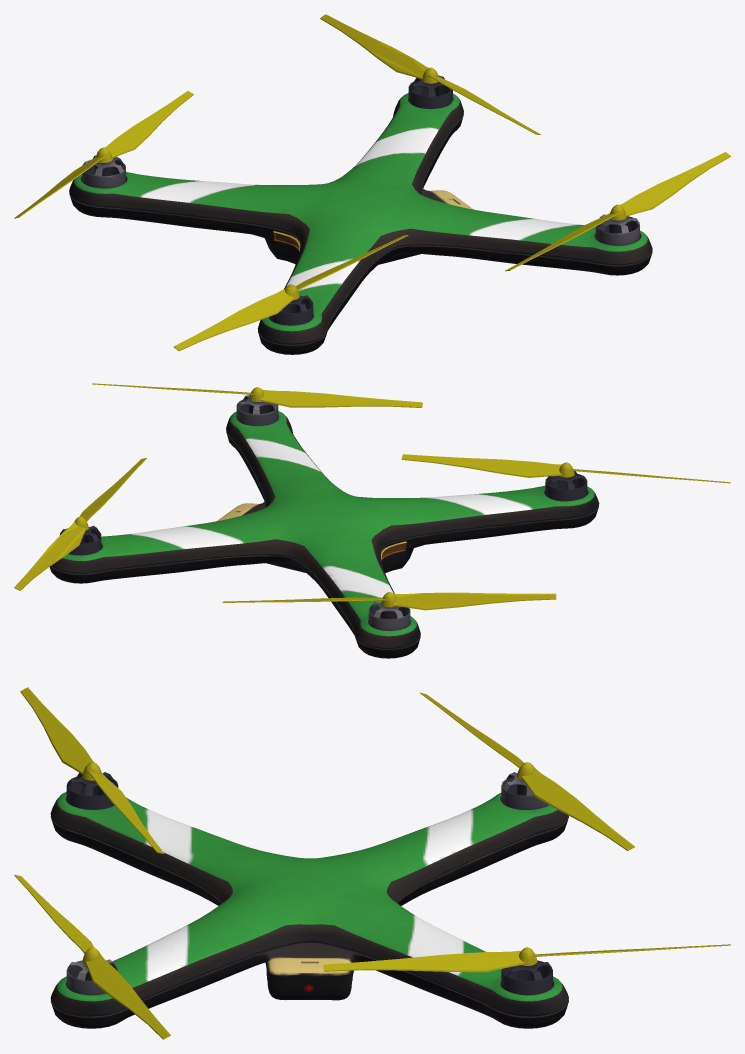
File: Drone_1.fbx
3 renders of one model, top to bottom at view 1: azimuth 30°, elevation 25°; view 2: azimuth 150°, elevation 25°; view 3: azimuth 270°, elevation 25°, orthographic. The views are drawn at different scales.
Visible parts, largest first — view 1: drone_body, wing_3, wing_2, wing_4, wing_1; view 2: drone_body, wing_1, wing_4, wing_3, wing_2; view 3: drone_body, wing_2, wing_4, wing_3, wing_1.
Part boxes in pixels (x1,y1,x2,y2): drone_body: [69, 75, 652, 354]; wing_3: [505, 152, 730, 271]; wing_2: [320, 14, 540, 134]; wing_4: [173, 235, 408, 351]; wing_1: [14, 91, 193, 218]; drone_body: [49, 394, 599, 658]; wing_1: [222, 592, 556, 610]; wing_4: [401, 454, 730, 483]; wing_3: [92, 383, 422, 407]; wing_2: [14, 458, 146, 590]; drone_body: [50, 772, 568, 1028]; wing_2: [323, 944, 730, 972]; wing_4: [20, 687, 164, 853]; wing_3: [14, 874, 170, 1039]; wing_1: [420, 692, 634, 850].
Bounding box in the file's own units: 39.98 × 4.86 × 34.72.
